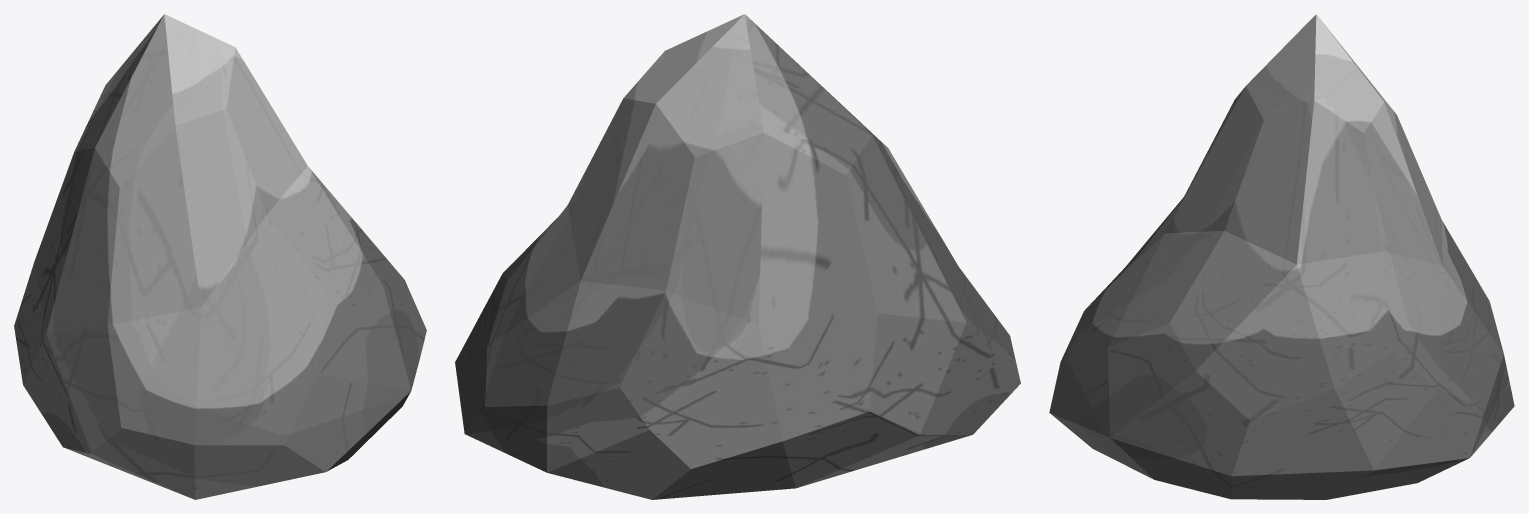
File: Rock 2-3.fbx
The picture shows the model from 3 angles, left to right: view 1: azimuth 30°, elevation 25°; view 2: azimuth 150°, elevation 25°; view 3: azimuth 270°, elevation 25°; orthographic projection. The views are drawn at different scales.
Visible parts, largest first — view 1: Icosphere; view 2: Icosphere; view 3: Icosphere.
Part boxes in pixels (x1,y1,x2,y2): Icosphere: (14,14,426,499); Icosphere: (455,14,1020,499); Icosphere: (1049,14,1514,499).
Bounding box in the file's own units: 251 × 252 × 260.
